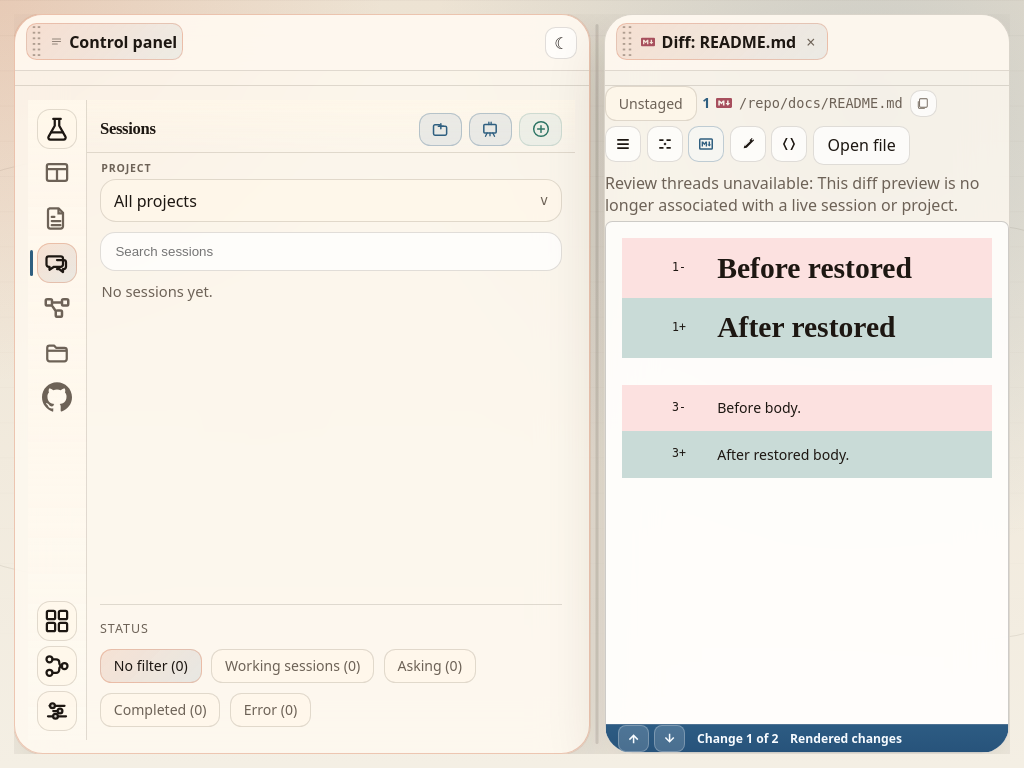
Test: App diff preview › hydrates stripped restored Git diff tabs after workspace layout readiness
Check: the text "After restored body." is shown, box x1=717 y1=445 x2=849 y2=464
What coordinates should you click on to do the following:
click the button named "Raw patch"
I would click on:
 (789, 144)
Its box is x1=771 y1=126 x2=807 y2=162.
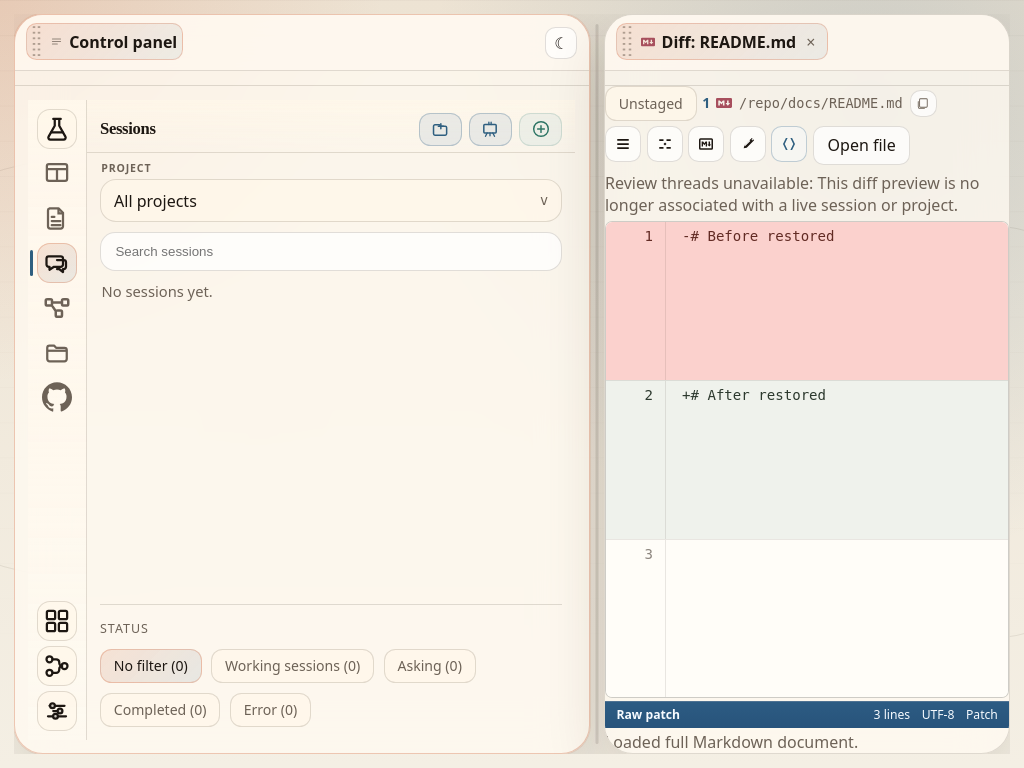
Check: the text "Loaded full Markdown document." is shown, box x1=605 y1=731 x2=858 y2=753
